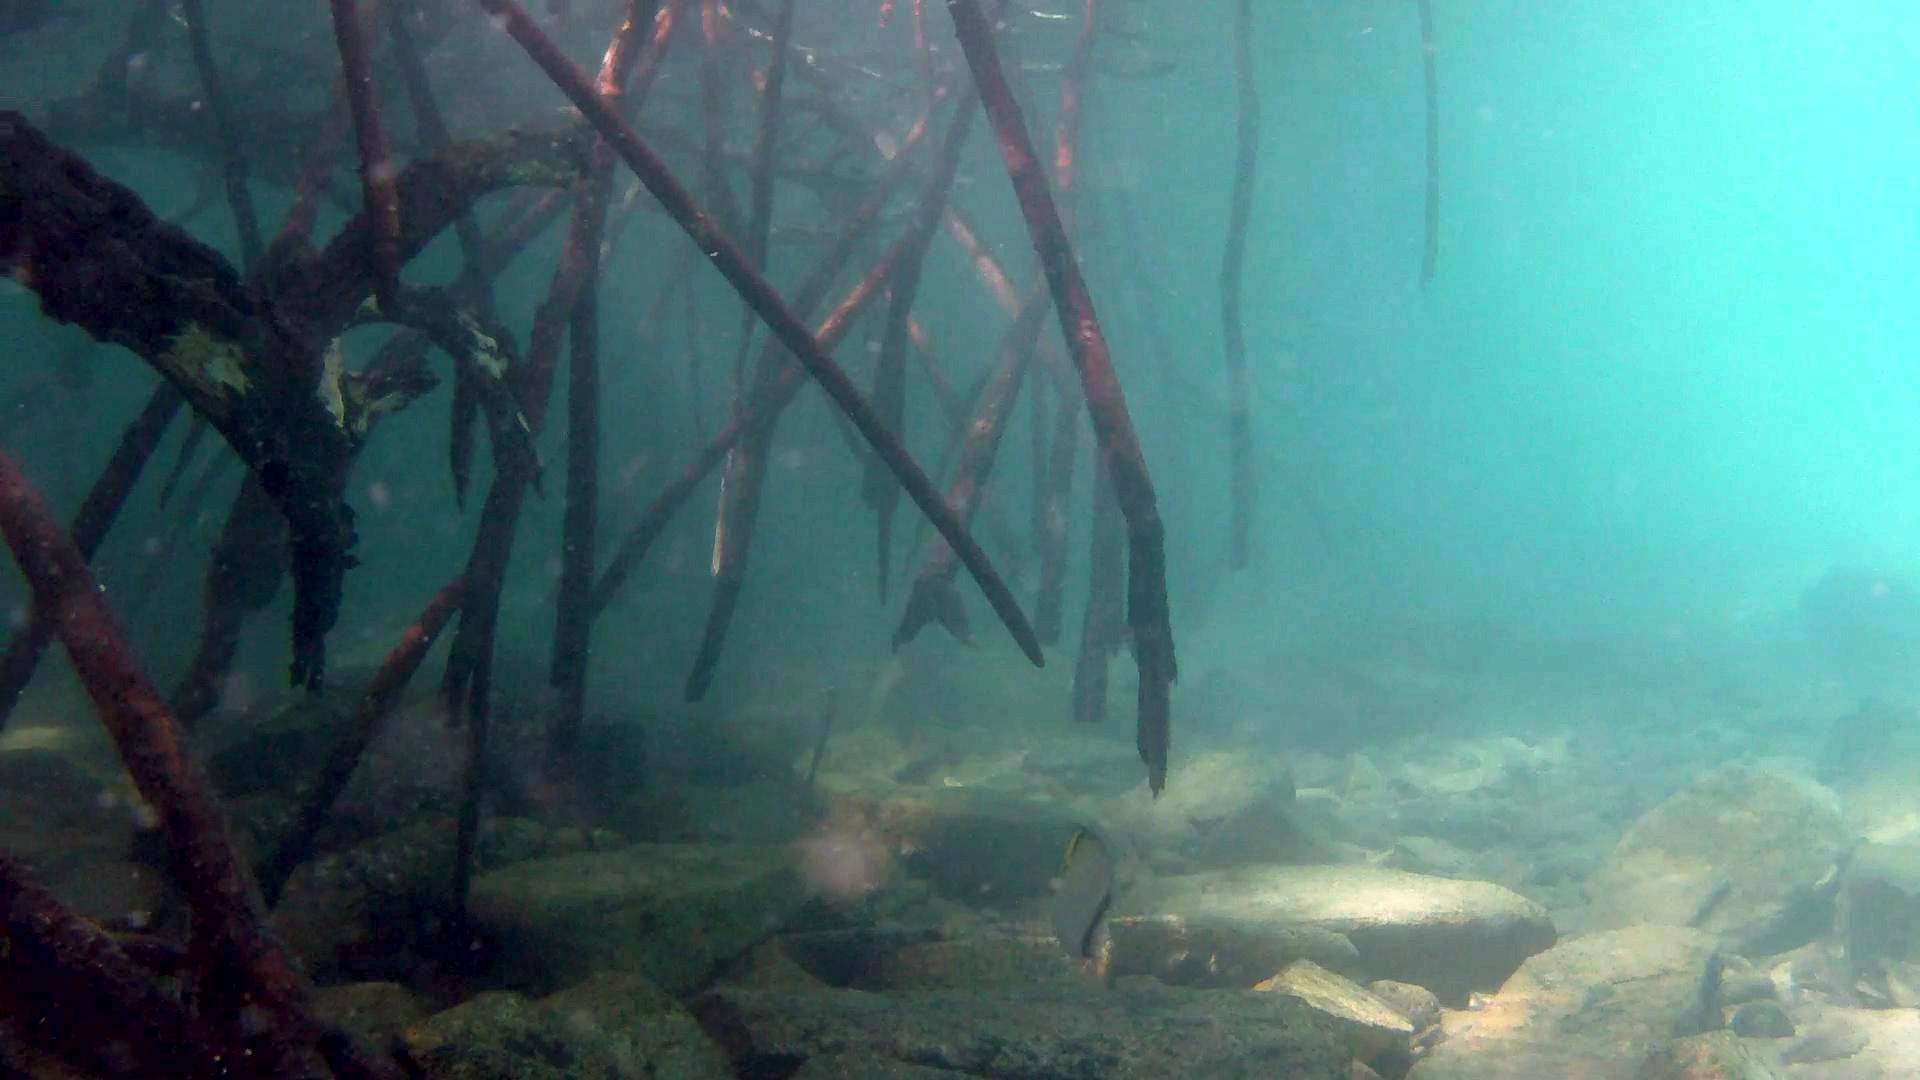chaetodon vagabundus: (1043, 815, 1120, 966)
